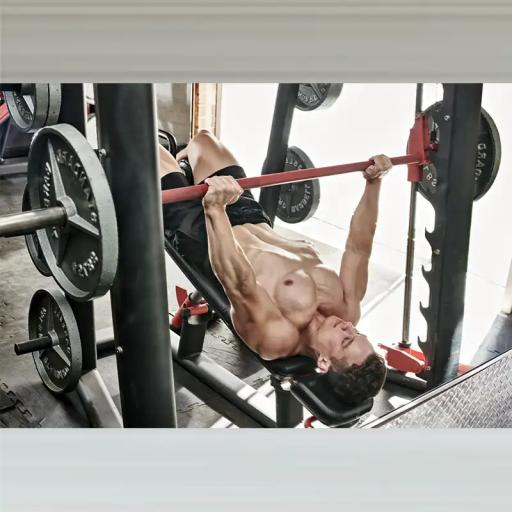exercise: (165, 129, 394, 406)
